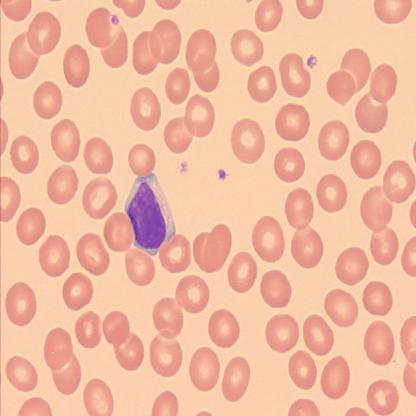Lymphocyte: (125, 174, 176, 256)
